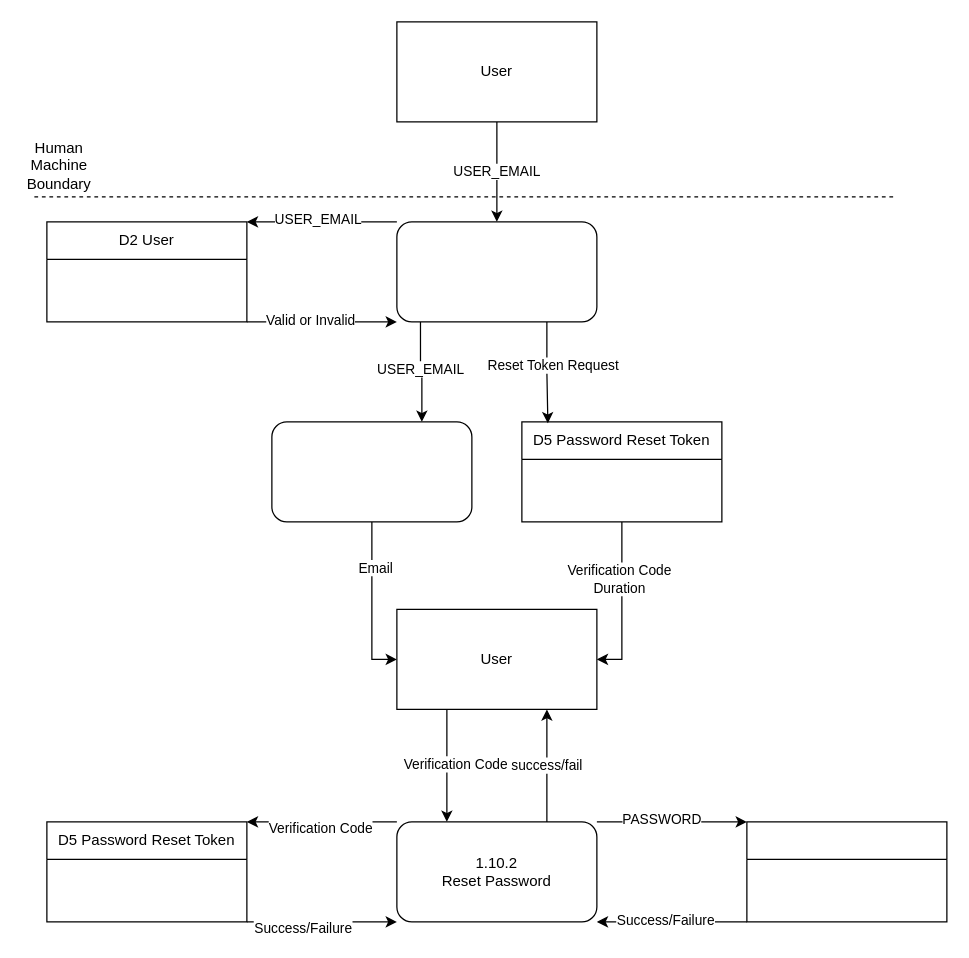
Image size: 969x958. Some labels were removed from this diagram. The shapes that lost their labels are listed below. From the top down, each one's centre as x and y in pixels, then its label:
At (x=496, y=271): "1.10.1 Forgot Password".
At (x=371, y=471): "Email Service".
At (x=846, y=871): "D2 Cred".
